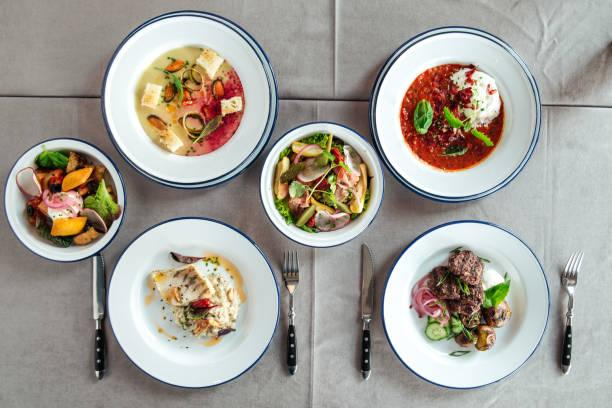Braised Crucian Carp: (370, 24, 546, 206), (103, 217, 288, 390), (99, 9, 275, 190), (376, 219, 555, 390), (263, 117, 383, 248), (4, 136, 127, 261)
